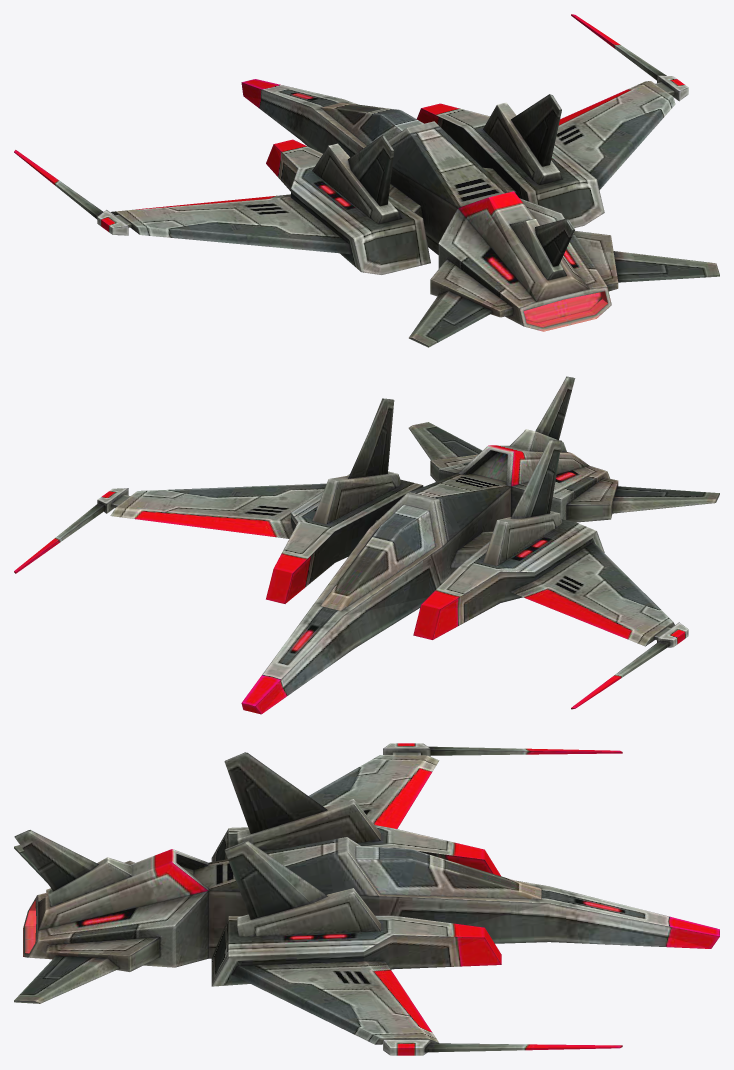
The model's file is dark_fighter_2.obj.
3 views of the same model, one above another, from view 1: azimuth 30°, elevation 25°; view 2: azimuth 150°, elevation 25°; view 3: azimuth 270°, elevation 25° (orthographic). The views are drawn at different scales.
Visible parts, largest first — view 1: default; view 2: default; view 3: default.
Boxes of the visible parts, left/top/right/bottom form: default: left=14, top=14, right=719, bottom=347; default: left=14, top=376, right=719, bottom=714; default: left=14, top=743, right=719, bottom=1055.
Bounding box in the file's own units: 3.56 × 0.8063 × 3.49.
Materials: 1 (1 with a texture image).
